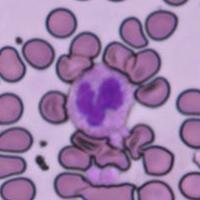N: (65, 63, 136, 138)
